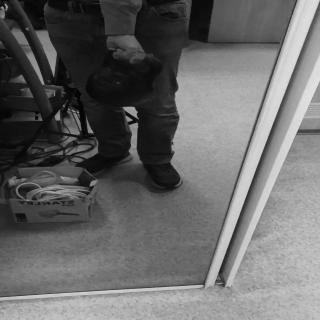kettlebell: (85, 51, 164, 108)
